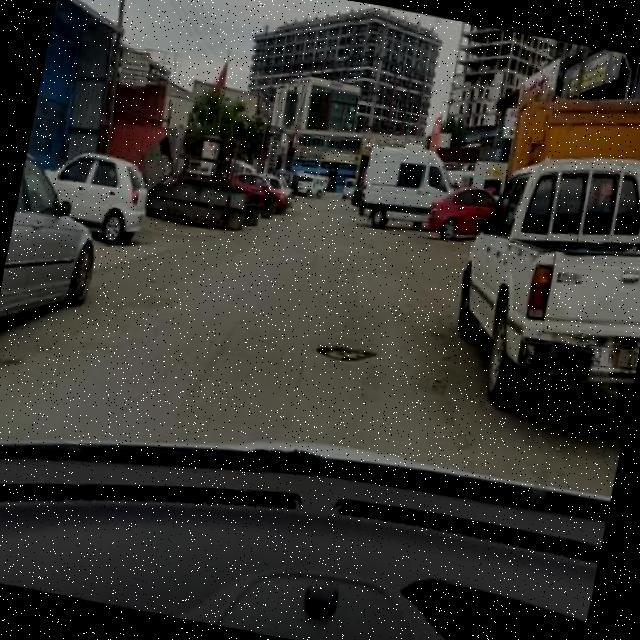Pothole: (316, 346, 376, 362)
